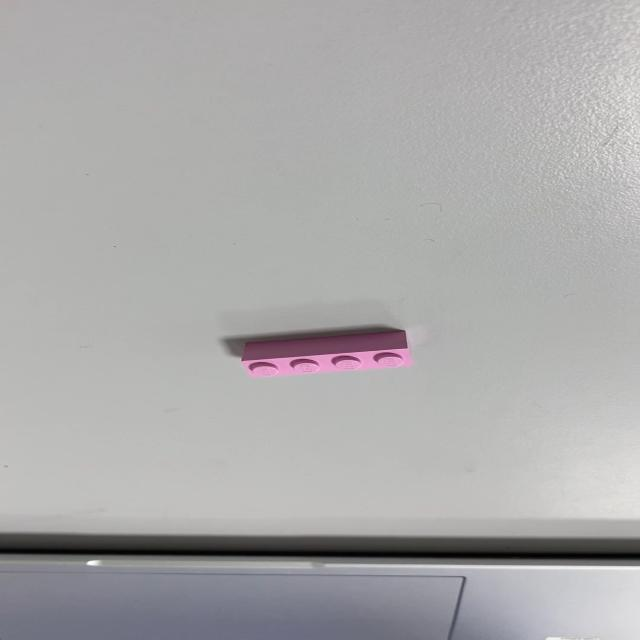C4x1x1: (238, 329, 413, 378)
